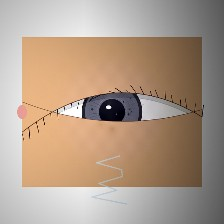foreign_body_visible: (104, 131, 139, 159)
